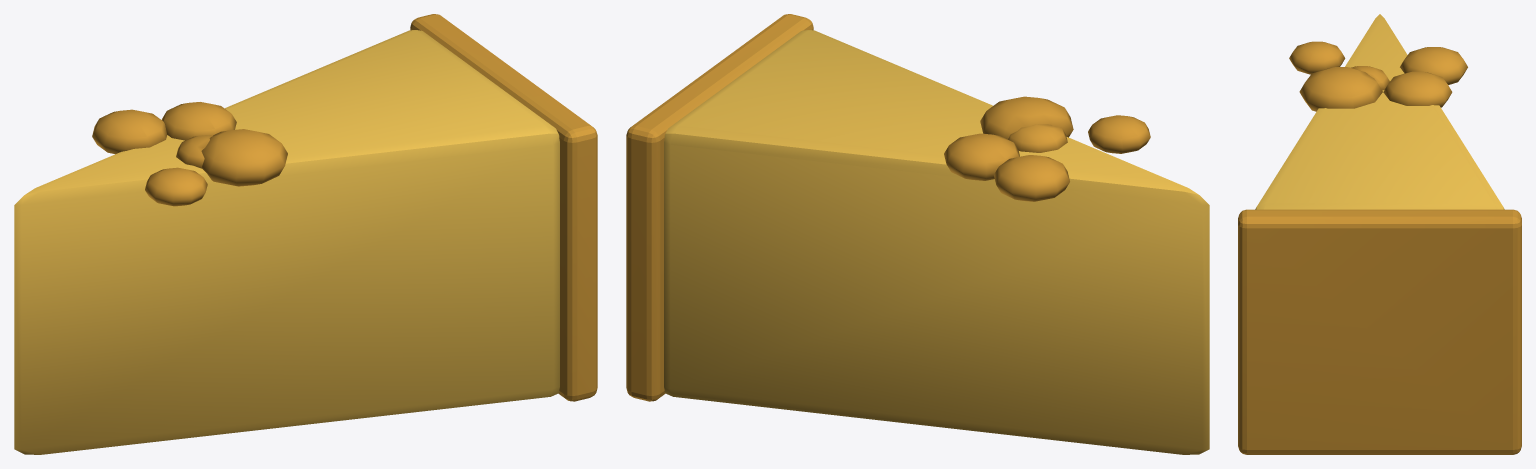
File: den_cheese.glb
3 renders of one model, left to right at view 1: azimuth 30°, elevation 25°; view 2: azimuth 150°, elevation 25°; view 3: azimuth 270°, elevation 25°, orthographic. The views are drawn at different scales.
Visible parts, largest first — view 1: den_cheese; view 2: den_cheese; view 3: den_cheese.
Part boxes in pixels (x1,y1,x2,y2): den_cheese: (14, 14, 597, 454); den_cheese: (626, 14, 1209, 454); den_cheese: (1238, 14, 1521, 454).
Bounding box in the file's own units: 4.68 × 2.59 × 2.6.
